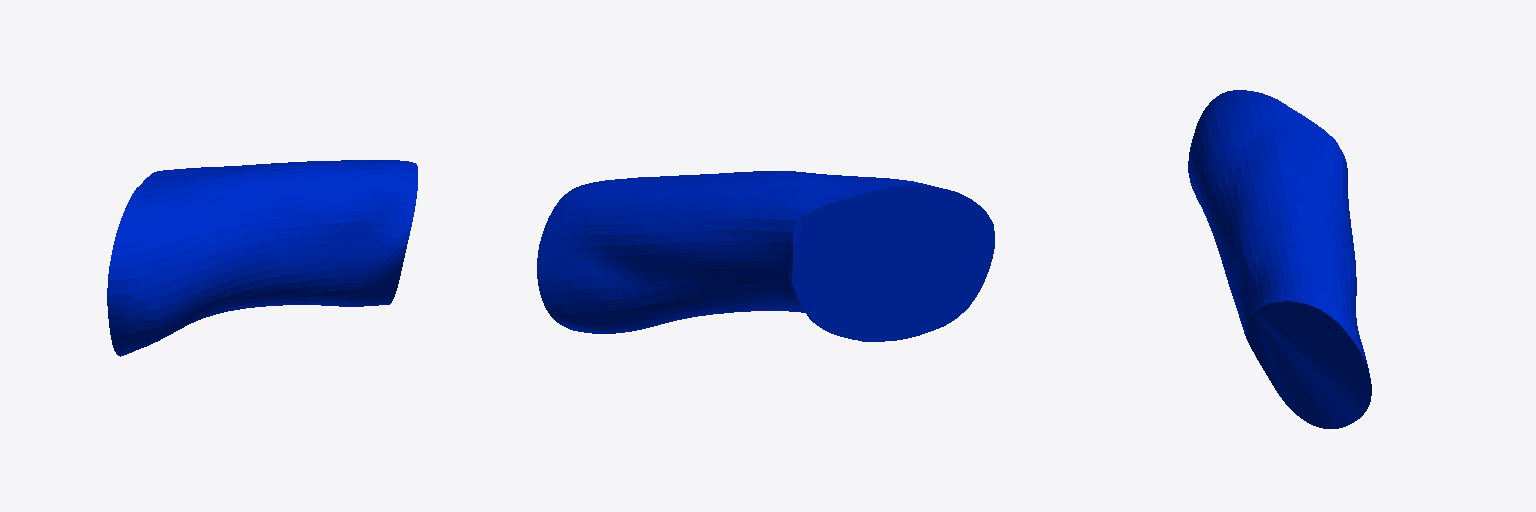
The model's file is upperarm_l.obj.
The picture shows the model from 3 angles: view 1: azimuth 30°, elevation 25°; view 2: azimuth 150°, elevation 25°; view 3: azimuth 270°, elevation 25°; orthographic projection.
Visible parts, largest first — view 1: upperarm_l.002_torso.012; view 2: upperarm_l.002_torso.012; view 3: upperarm_l.002_torso.012.
Part boxes in pixels (x1,y1,x2,y2): upperarm_l.002_torso.012: (107,160,417,356); upperarm_l.002_torso.012: (537,171,994,341); upperarm_l.002_torso.012: (1188,90,1371,428).
Size of the model in its own units: 0.3125 by 0.1546 by 0.1321.